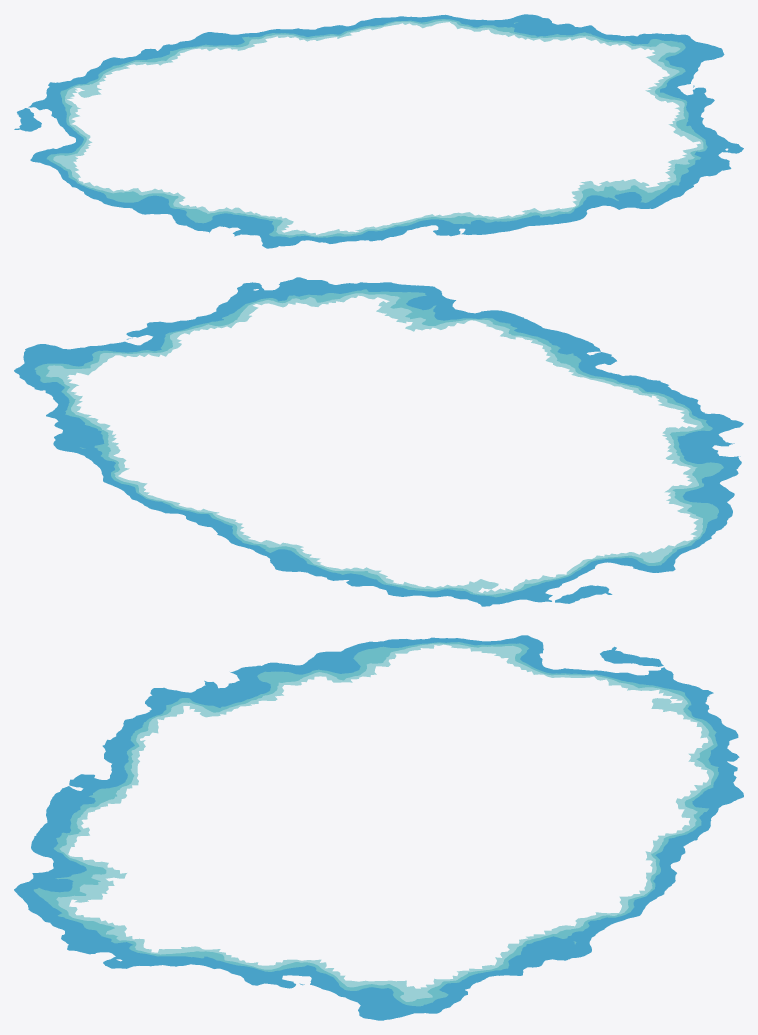
Rendered from Isl-hilly1-Water.fbx.
3 renders of one model, top to bottom at view 1: azimuth 30°, elevation 25°; view 2: azimuth 150°, elevation 25°; view 3: azimuth 270°, elevation 25°, orthographic. The views are drawn at different scales.
Visible parts, largest first — view 1: Isl-hilly1-Water; view 2: Isl-hilly1-Water; view 3: Isl-hilly1-Water.
Boxes of the visible parts, bbox=[...] form: Isl-hilly1-Water: bbox=[14, 14, 743, 248]; Isl-hilly1-Water: bbox=[14, 277, 743, 606]; Isl-hilly1-Water: bbox=[14, 635, 743, 1020].
Bounding box in the file's own units: 146 × 0 × 117.
